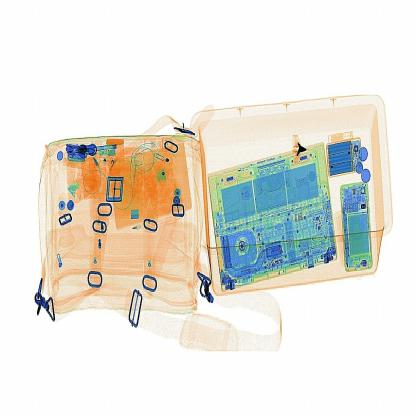gun: (287, 132, 315, 171)
